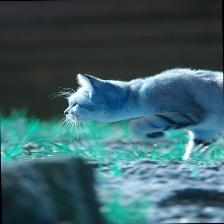kedo: (64, 68, 224, 149)
